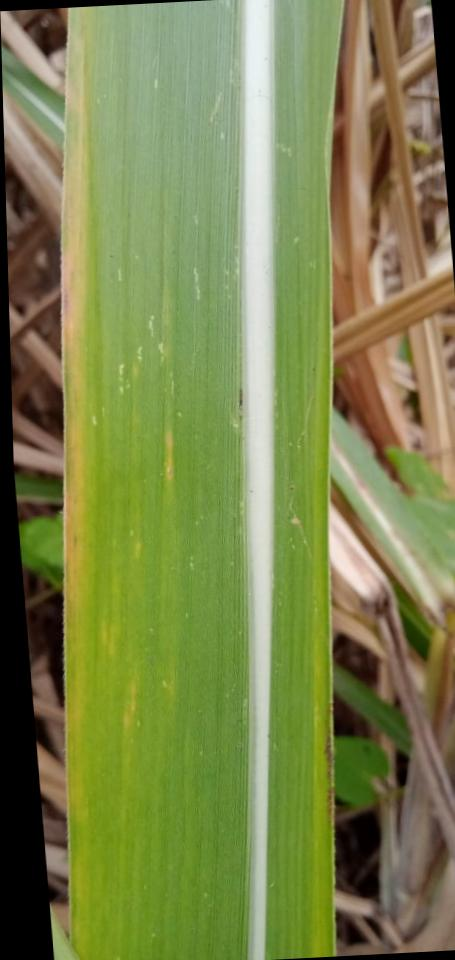Yellow: (60, 7, 93, 845), (312, 276, 335, 957)
